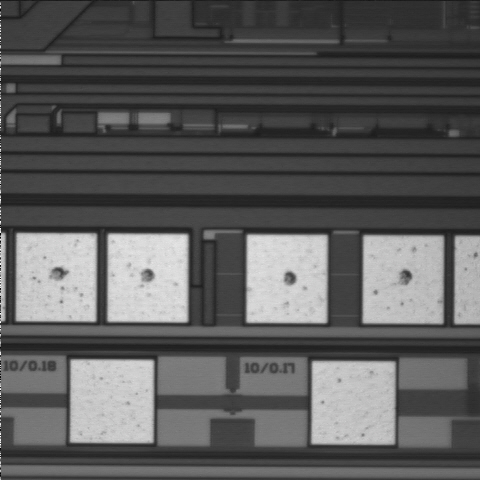pad: (108, 234, 188, 322), (247, 235, 327, 323), (16, 234, 96, 321), (363, 236, 443, 323), (71, 360, 153, 443), (312, 362, 395, 444)
